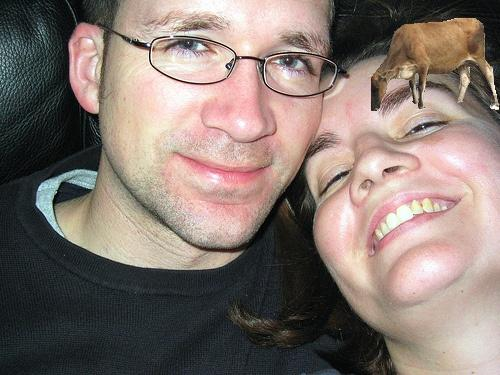tampered: (372, 19, 499, 111)
